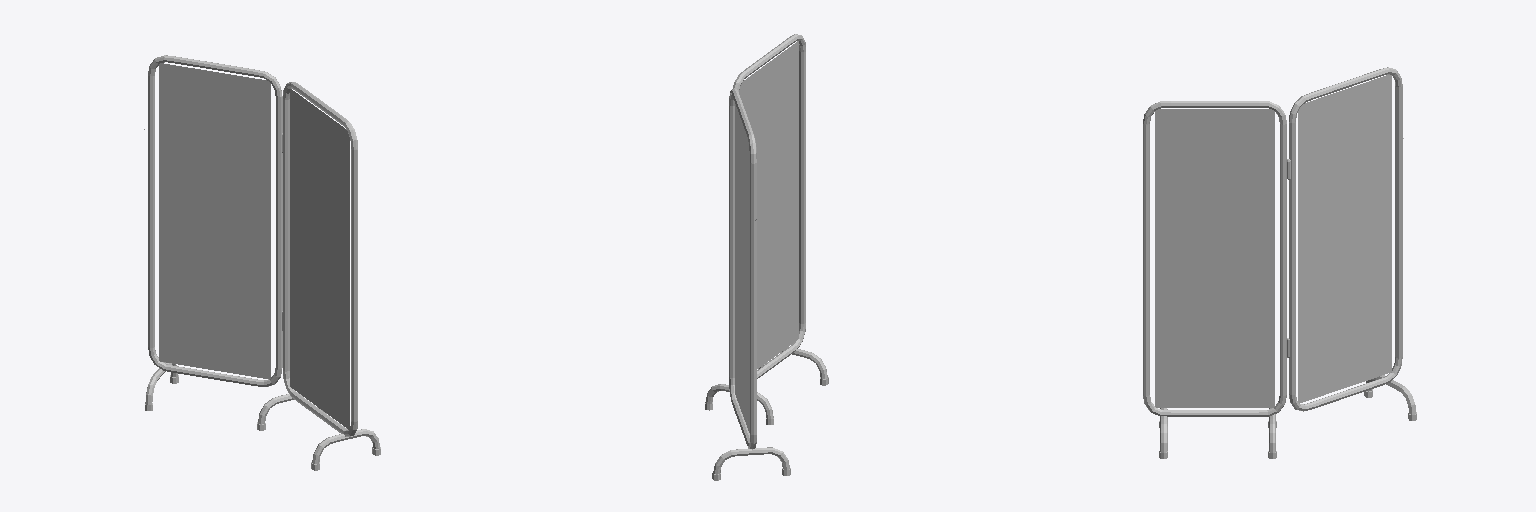
File: paravan_sf.obj
3 views of the same model, side by side, from view 1: azimuth 30°, elevation 25°; view 2: azimuth 150°, elevation 25°; view 3: azimuth 270°, elevation 25° (orthographic).
Parts seen in each view (by area): view 1: paravan_complete_Cylinder.004_Cylinder.001; view 2: paravan_complete_Cylinder.004_Cylinder.001; view 3: paravan_complete_Cylinder.004_Cylinder.001.
Boxes of the visible parts, x1,y1,x2,y2 form: paravan_complete_Cylinder.004_Cylinder.001: [144, 55, 380, 470]; paravan_complete_Cylinder.004_Cylinder.001: [705, 34, 828, 480]; paravan_complete_Cylinder.004_Cylinder.001: [1143, 67, 1416, 458].
Bounding box in the file's own units: 1.42 × 3.47 × 2.53.